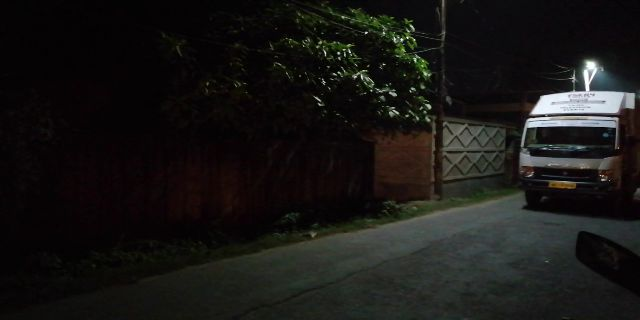Minitruck: (509, 81, 627, 204)
